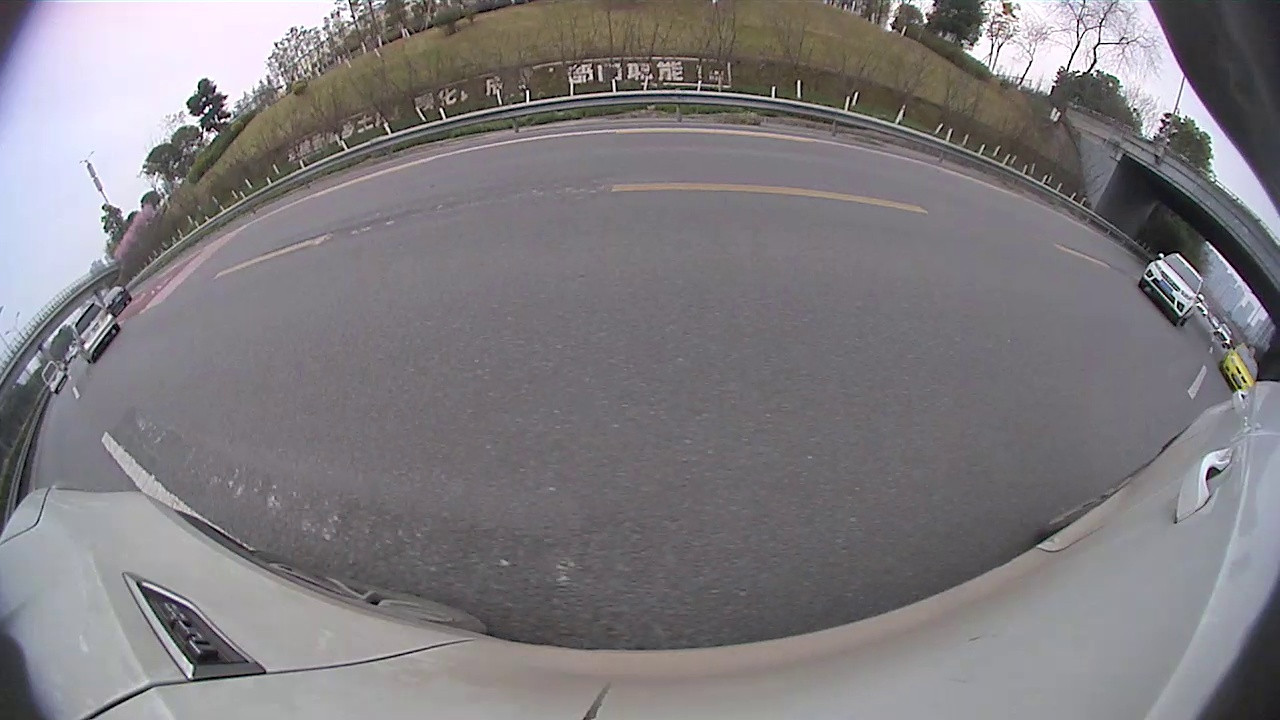car: (880, 162, 1220, 382), (329, 147, 529, 258), (612, 139, 710, 213), (524, 158, 585, 199), (705, 150, 753, 194), (570, 159, 605, 187)
front: (883, 211, 922, 256), (514, 184, 530, 219)
rear: (1060, 281, 1128, 364), (450, 197, 478, 245)
